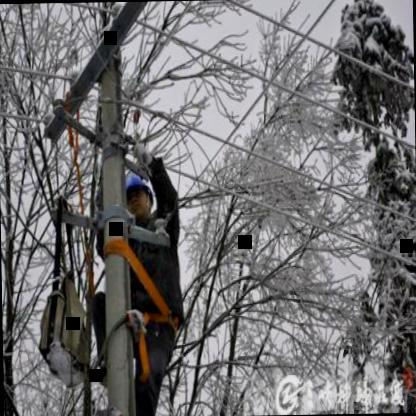helmet: (123, 170, 155, 223)
